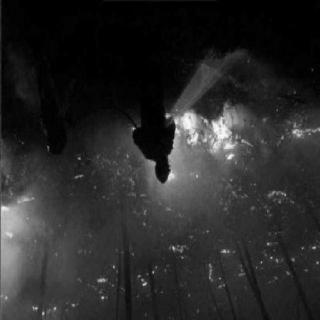Fire: (6, 111, 314, 307)
